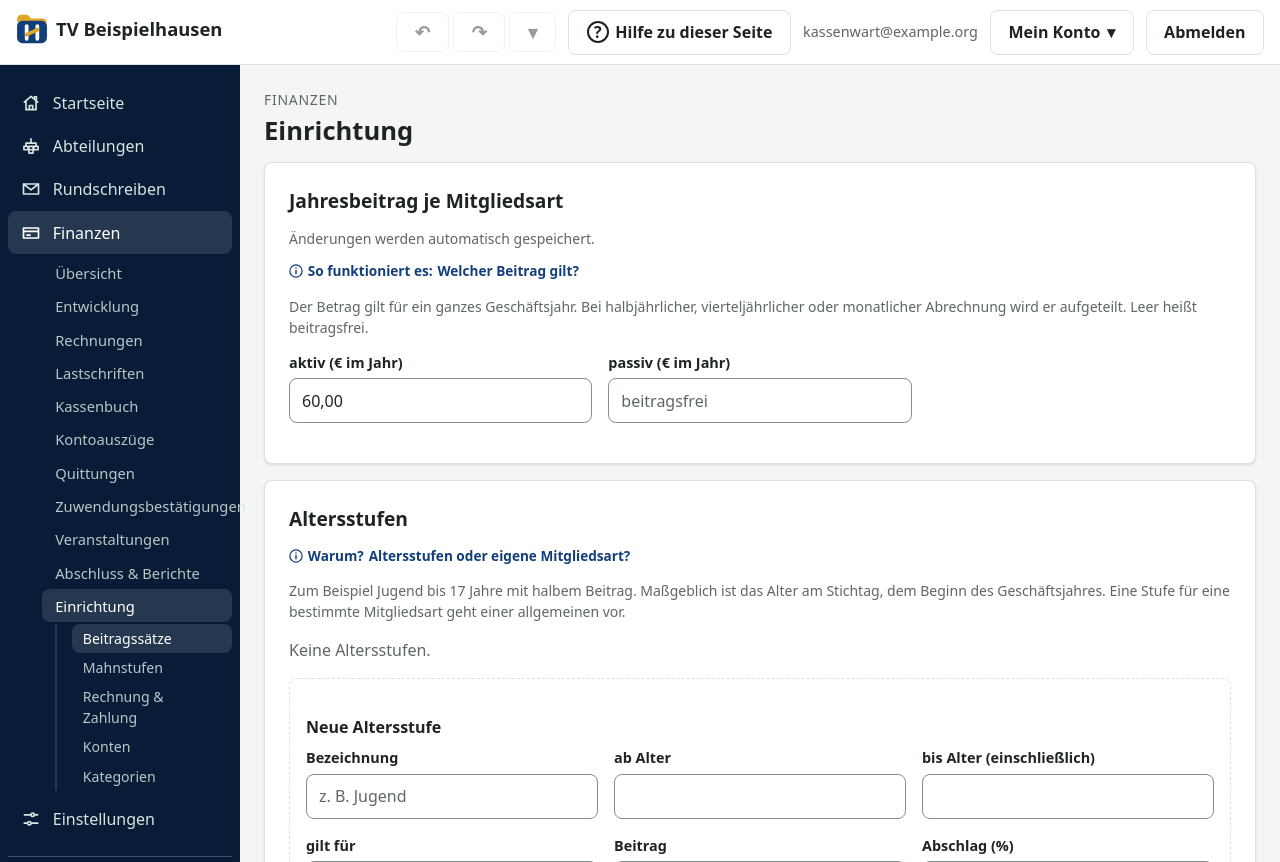
Test: Beiträge › speichert Beiträge je Mitgliedsart mit Komma
Type "30,50" into the field labelled "passiv (€ im Jahr)" at (760, 401), box [608,378,912,423]
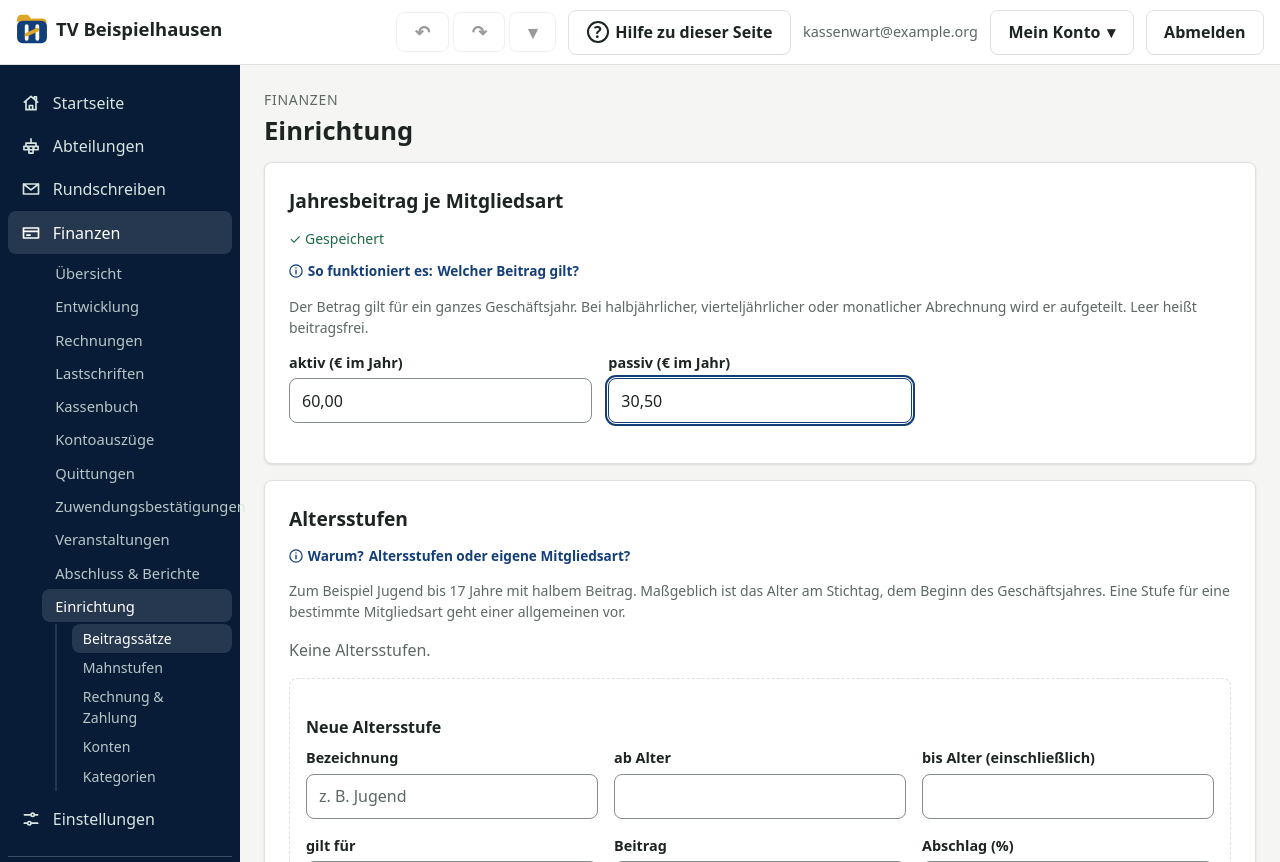
Expected: the text "✓ Gespeichert" is shown, [289,229,384,248]
